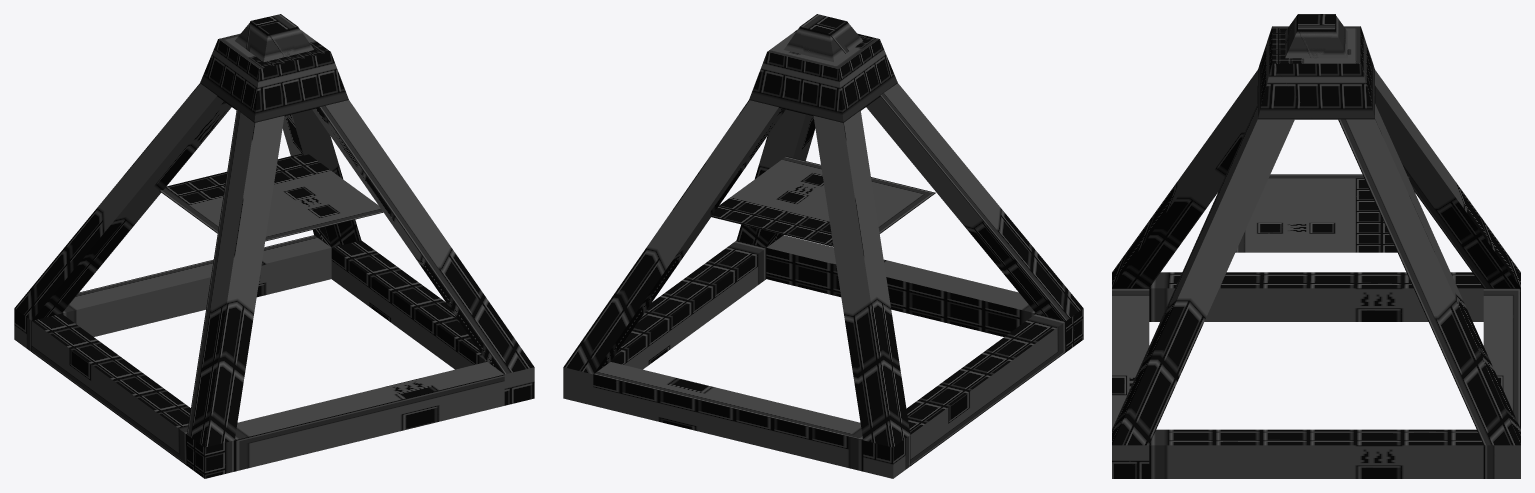
The model's file is burner_drill.obj.
3 views of the same model, side by side, from view 1: azimuth 30°, elevation 25°; view 2: azimuth 150°, elevation 25°; view 3: azimuth 270°, elevation 25° (orthographic). The views are drawn at different scales.
Visible parts, largest first — view 1: Cube_Cube.001; view 2: Cube_Cube.001; view 3: Cube_Cube.001.
Boxes of the visible parts, bbox=[...] form: Cube_Cube.001: bbox=[14, 14, 534, 478]; Cube_Cube.001: bbox=[563, 14, 1083, 478]; Cube_Cube.001: bbox=[1112, 14, 1520, 478].
Size of the model in its own units: 2.2 by 2.2 by 2.2.
